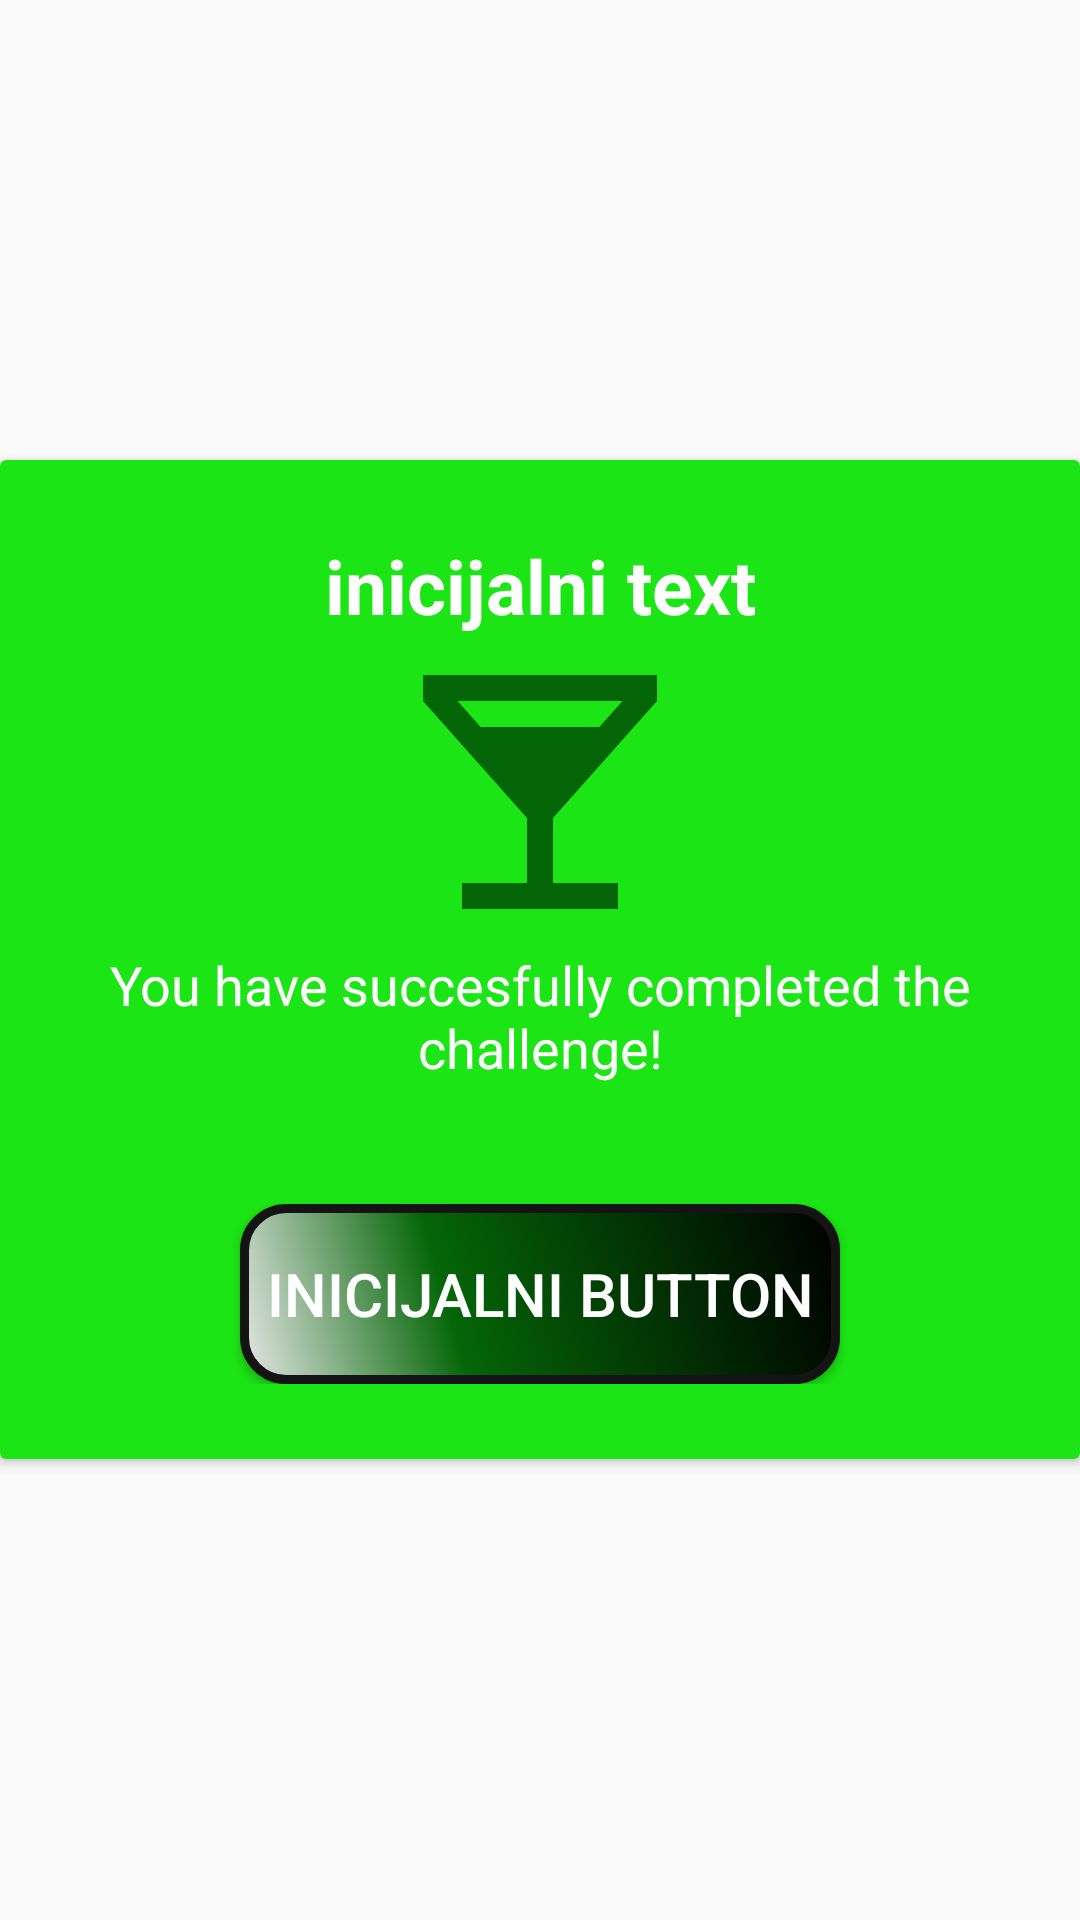

Locate icon controls on the screen. Image size 1080px x 1920px, boxes as (x1, y1, x2, y2).
local bar: (423, 675, 657, 909)
